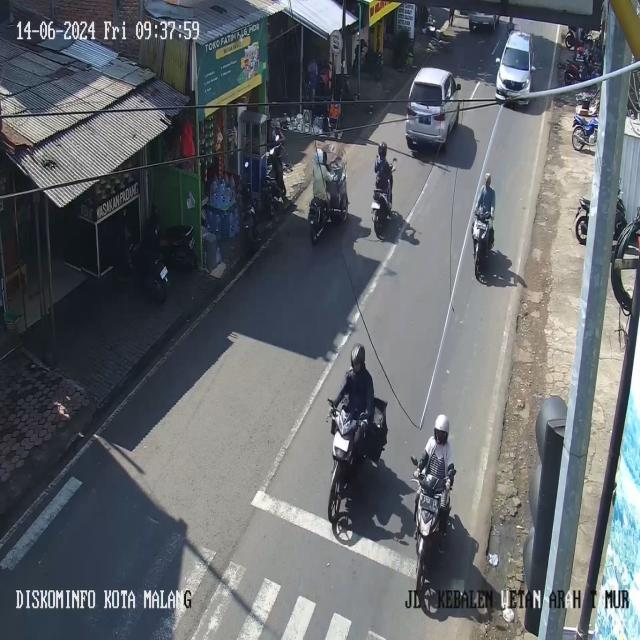Helmet: (434, 414, 448, 443), (351, 344, 364, 366), (316, 149, 326, 165), (378, 142, 386, 158), (485, 173, 490, 183)
Number Plate: (420, 495, 438, 512), (333, 433, 349, 451), (418, 116, 430, 124), (160, 267, 167, 278), (371, 201, 380, 209)
Rearview Mirror: (275, 134, 279, 142), (456, 83, 460, 90), (495, 57, 499, 63), (244, 161, 248, 167), (531, 66, 535, 71)
